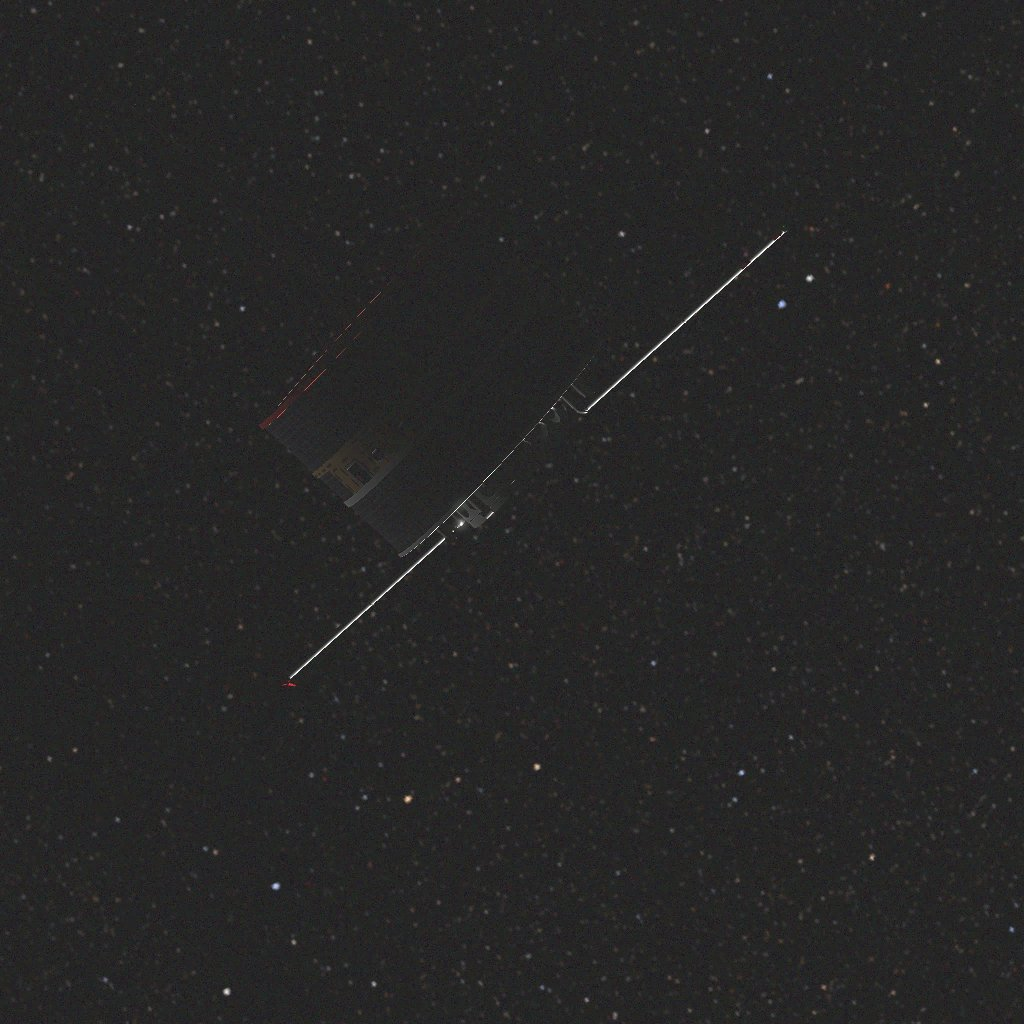double_star: (125, 98, 788, 686)
